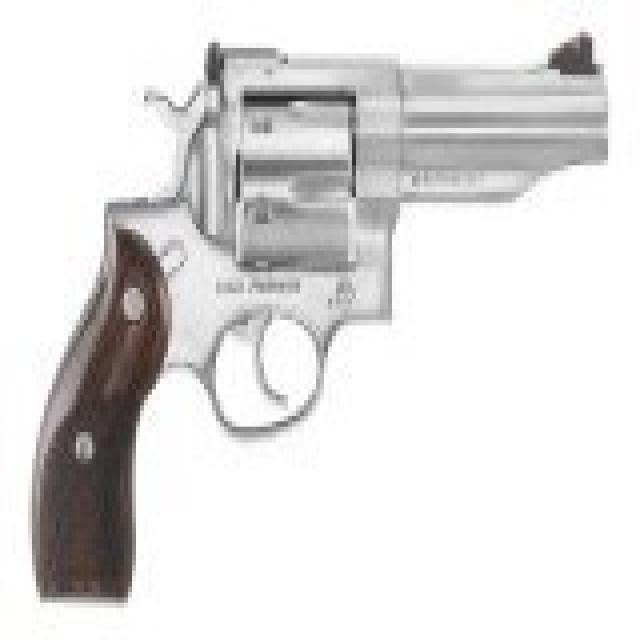Gun: (24, 13, 608, 596)
